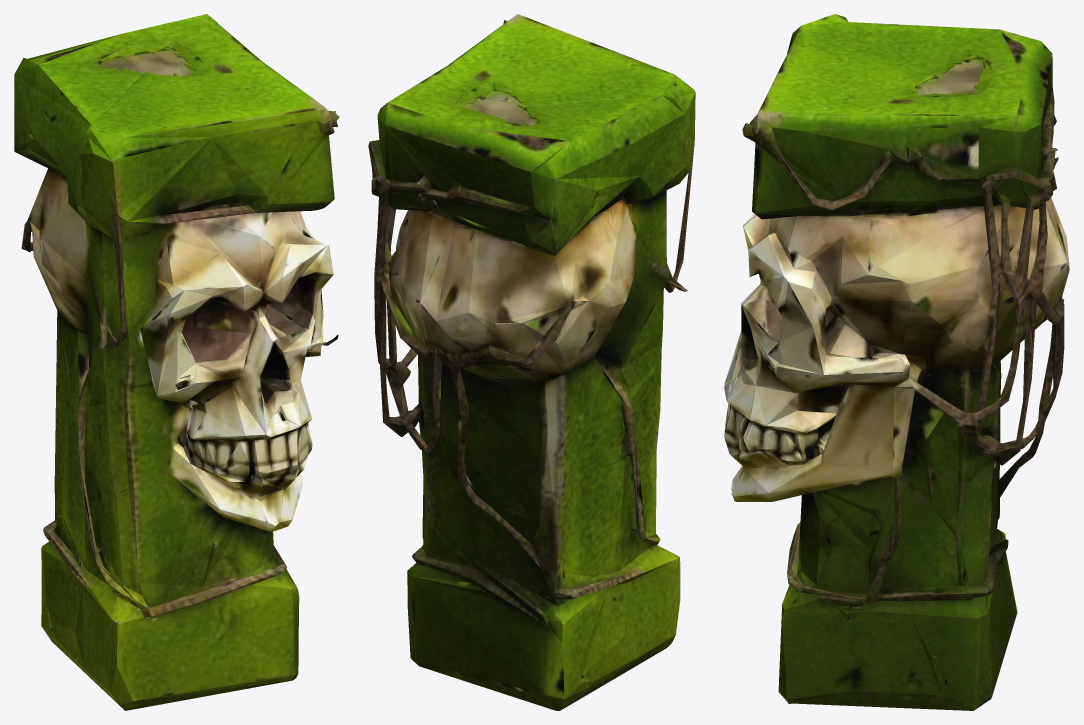
The model's file is fen_totem_01.glb.
The picture shows the model from 3 angles, left to right: view 1: azimuth 30°, elevation 25°; view 2: azimuth 150°, elevation 25°; view 3: azimuth 270°, elevation 25°; orthographic projection. The views are drawn at different scales.
Visible parts, largest first — view 1: geometry_0; view 2: geometry_0; view 3: geometry_0.
Boxes of the visible parts, left/top/right/bottom form: geometry_0: left=14, top=14, right=339, bottom=710; geometry_0: left=368, top=14, right=695, bottom=710; geometry_0: left=724, top=14, right=1069, bottom=710.
Bounding box in the file's own units: 0.422 × 0.9947 × 0.5176.
Materials: 1 (1 with a texture image).
